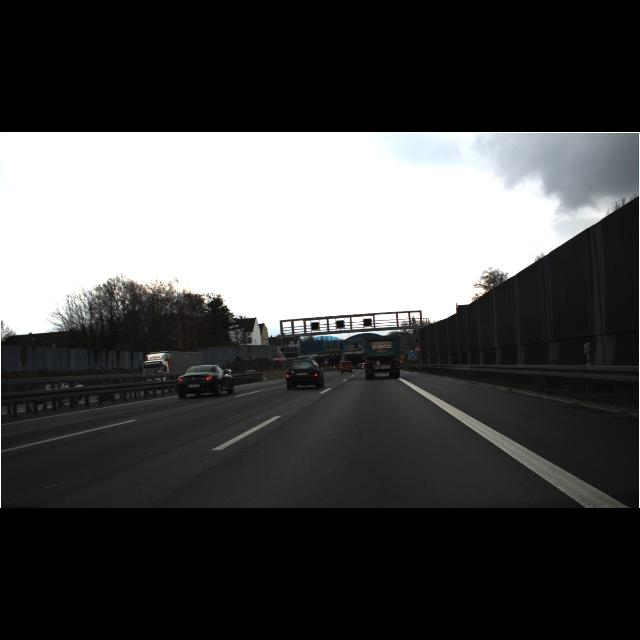danger: (412, 344, 422, 352), (278, 353, 286, 361)
